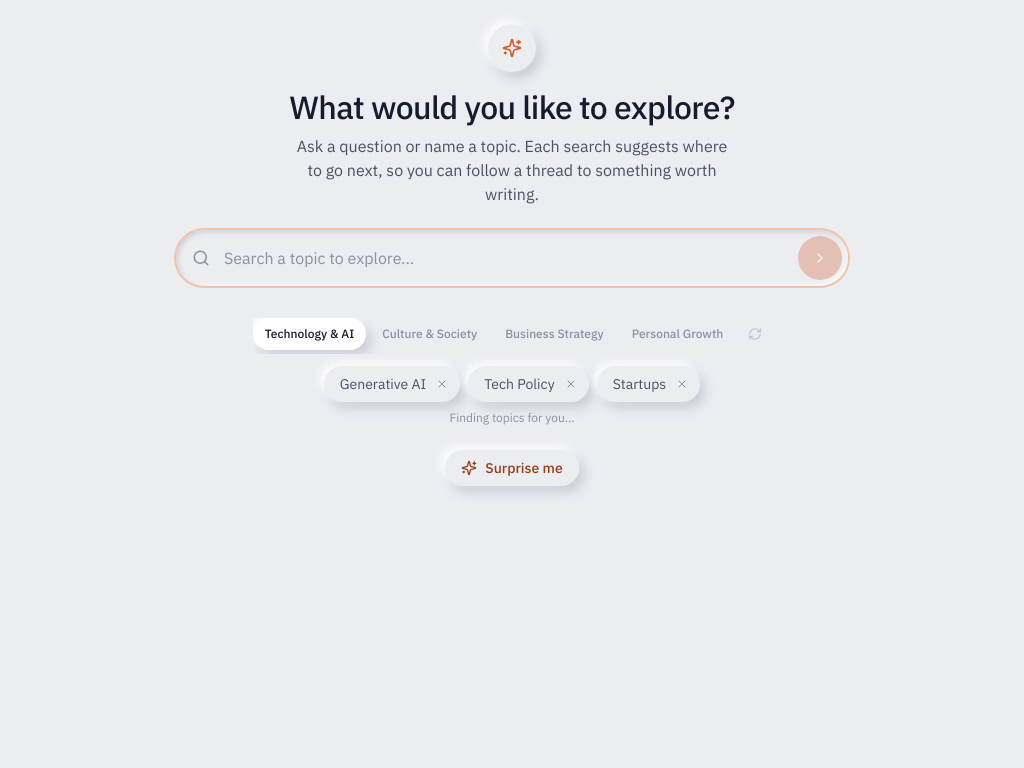
Test: ExploreWorkspace › searches a surprise pick and says why it fits
Click the button "Surprise me" at (512, 468), box [445,450,579,486]
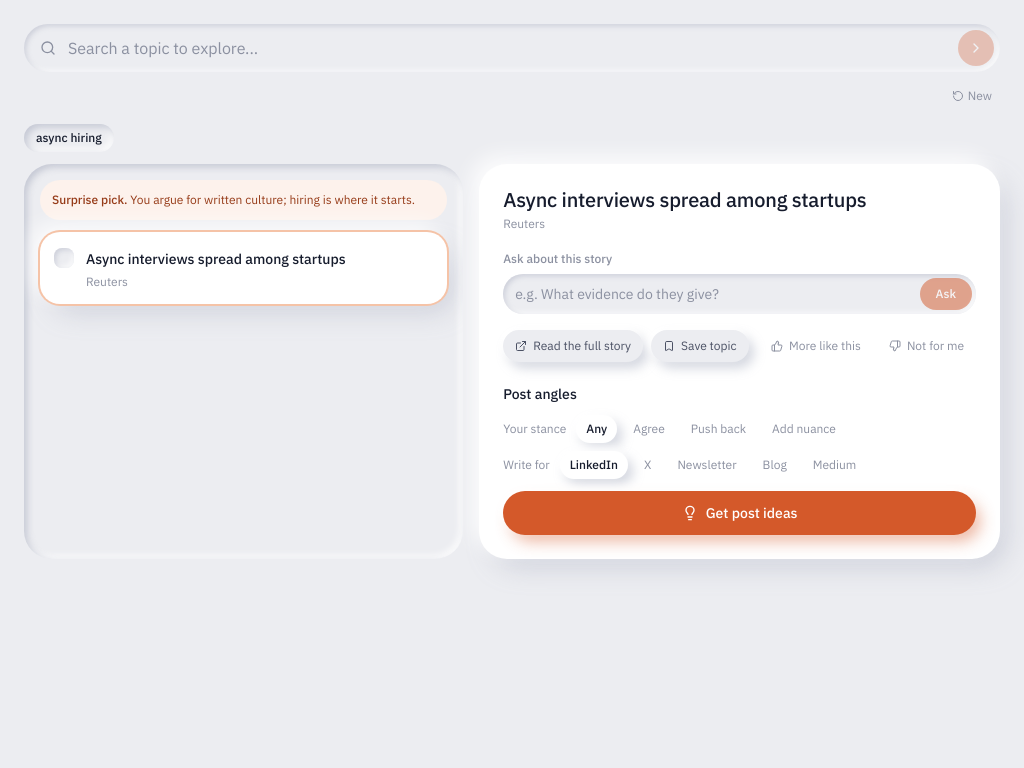
Expected: the heading "Async interviews spread among startups" is shown, [503,186,866,213]
Expected: the text "hiring is where it starts" is shown, [130,192,415,207]
